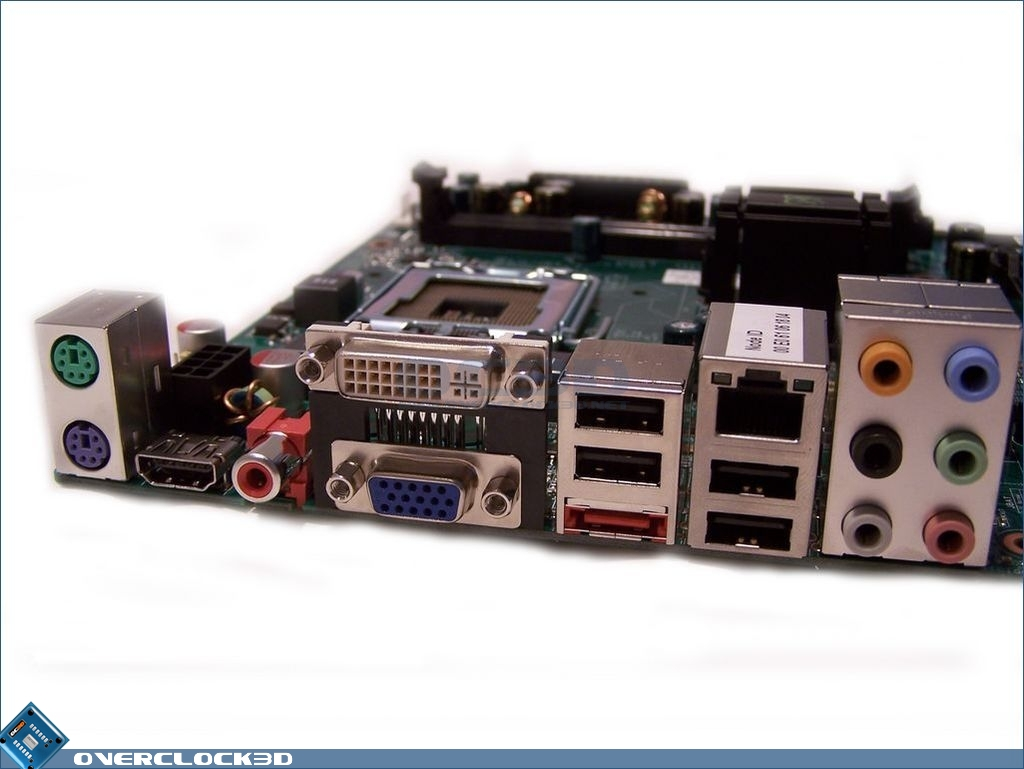Audio: (944, 337, 1005, 407), (934, 423, 992, 493), (842, 423, 909, 482), (853, 331, 912, 397), (923, 510, 984, 568), (839, 503, 901, 555)
DVI: (323, 346, 512, 410)
Ethernet: (701, 358, 820, 455)
HDMI: (134, 445, 224, 497)
USB: (561, 384, 680, 439), (555, 443, 681, 491), (693, 505, 803, 558)
VGA: (367, 468, 469, 531)
